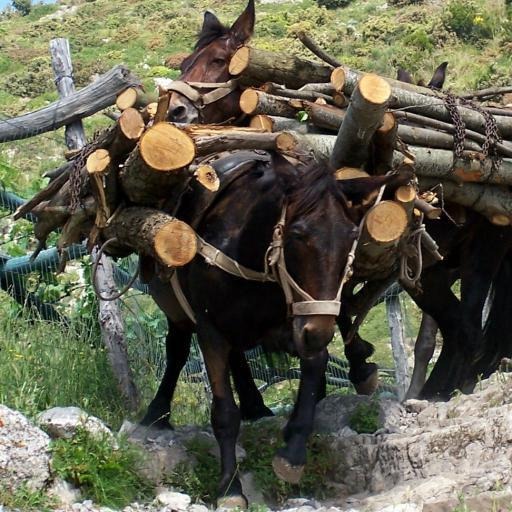horse: (138, 146, 401, 512), (336, 198, 512, 400)
